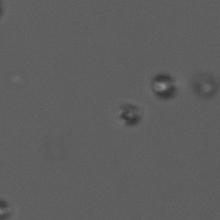Dead Cell: (150, 74, 175, 97), (192, 74, 215, 97), (118, 105, 142, 124), (1, 196, 14, 219)
